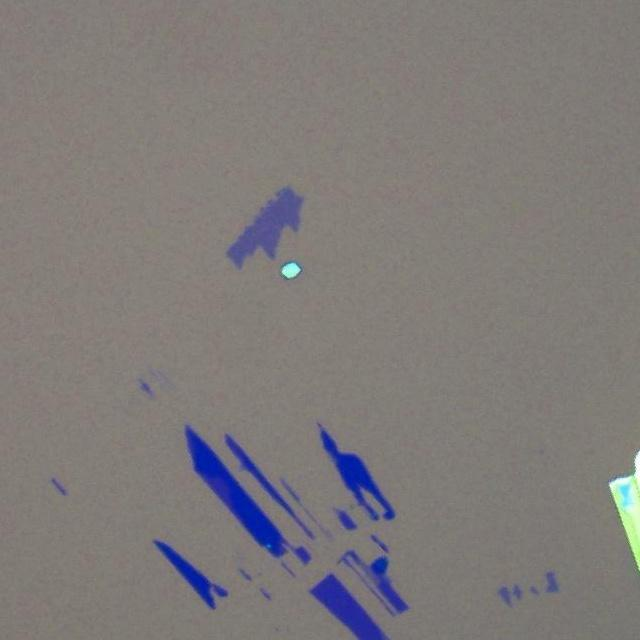monolayer-eWW4: (222, 184, 304, 267)
